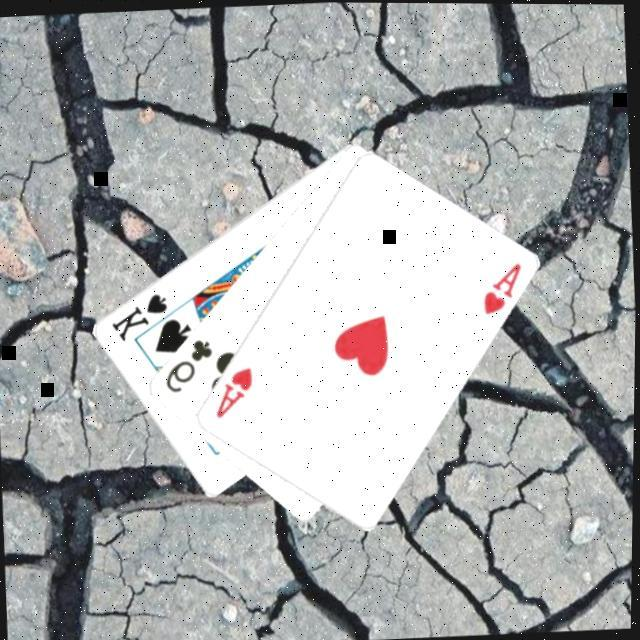6C: (158, 336, 216, 398)
AH: (476, 260, 526, 318), (208, 364, 256, 422)
KS: (104, 290, 172, 346)
